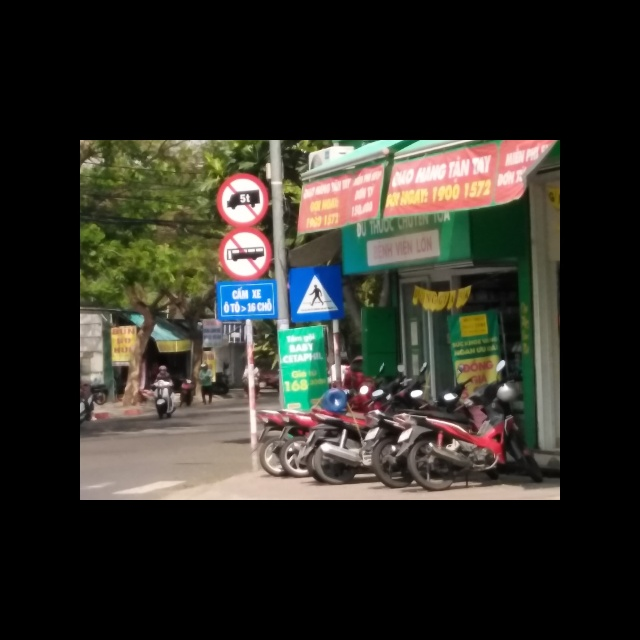Cấm xe tải: (216, 173, 269, 225)
Cấm xe xe khách: (219, 226, 272, 282)
Đường dành cho người đi bộ: (288, 267, 348, 323)
